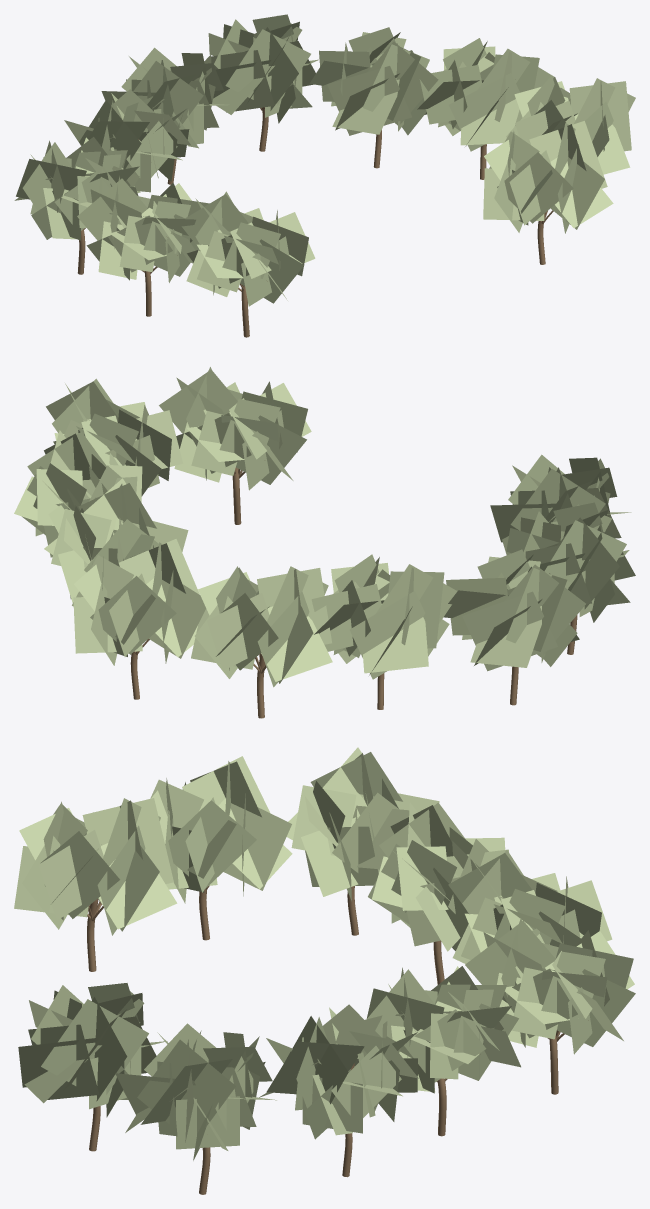
Rendered from garden-grove-v2.glb.
3 views of the same model, one above another, from view 1: azimuth 30°, elevation 25°; view 2: azimuth 150°, elevation 25°; view 3: azimuth 270°, elevation 25° (orthographic). The views are drawn at different scales.
Parts seen in each view (by area): view 1: Photographic leaf card (×73); view 2: Photographic leaf card (×80); view 3: Photographic leaf card (×81).
Boxes of the visible parts, x1=… form: Photographic leaf card (×73): x1=16, y1=14, x2=635, y2=306; Photographic leaf card (×80): x1=14, y1=367, x2=626, y2=687; Photographic leaf card (×81): x1=14, y1=747, x2=635, y2=1149.
Size of the model in its own units: 15.71 by 3.67 by 12.34.
